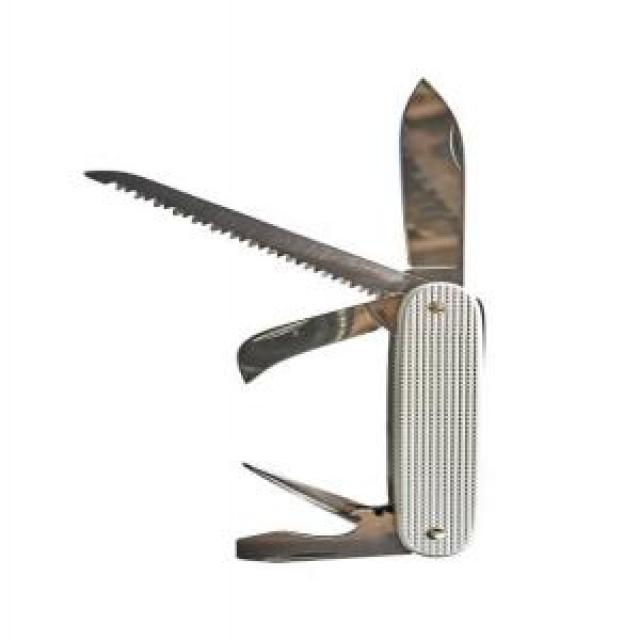knife: (77, 66, 478, 569)
